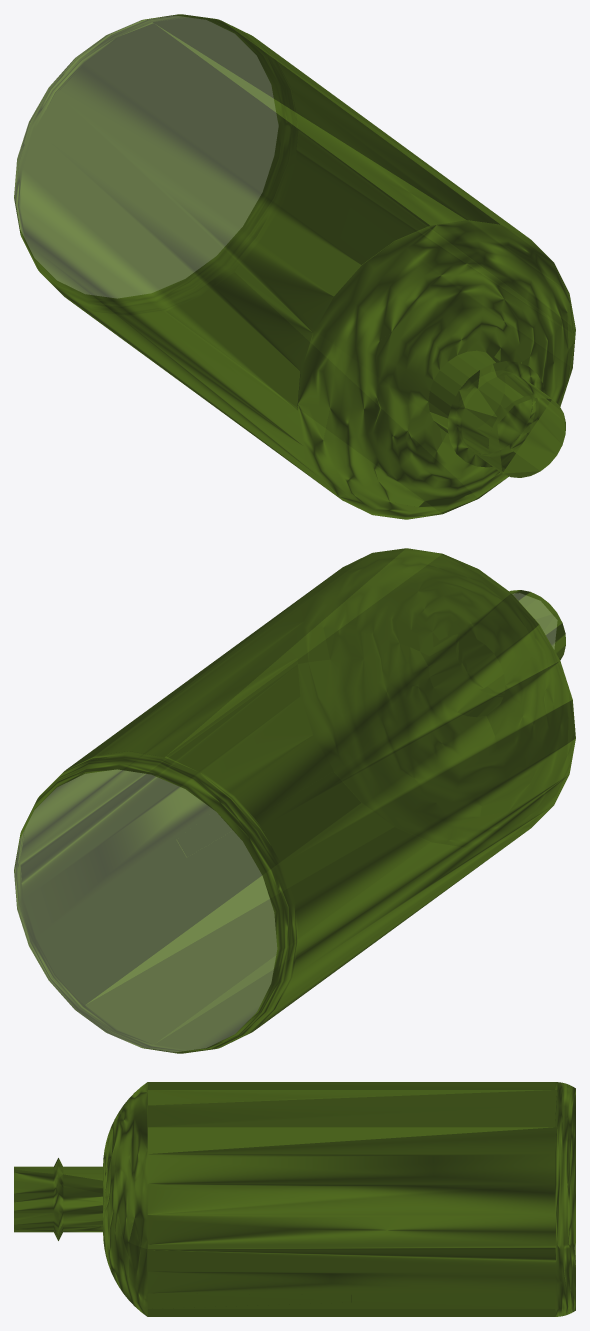
File: model_align.obj
3 renders of one model, top to bottom at view 1: azimuth 30°, elevation 25°; view 2: azimuth 150°, elevation 25°; view 3: azimuth 270°, elevation 25°, orthographic. The views are drawn at different scales.
Size of the model in its own units: 0.0539 by 0.0539 by 0.1279.
